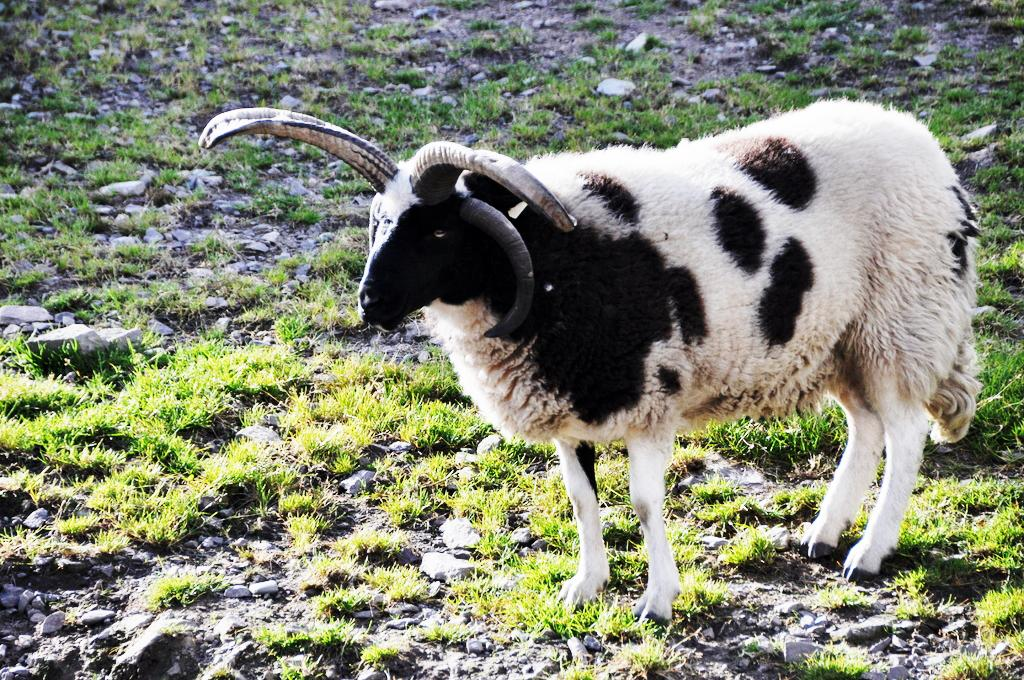Sheep: (196, 93, 986, 626)
